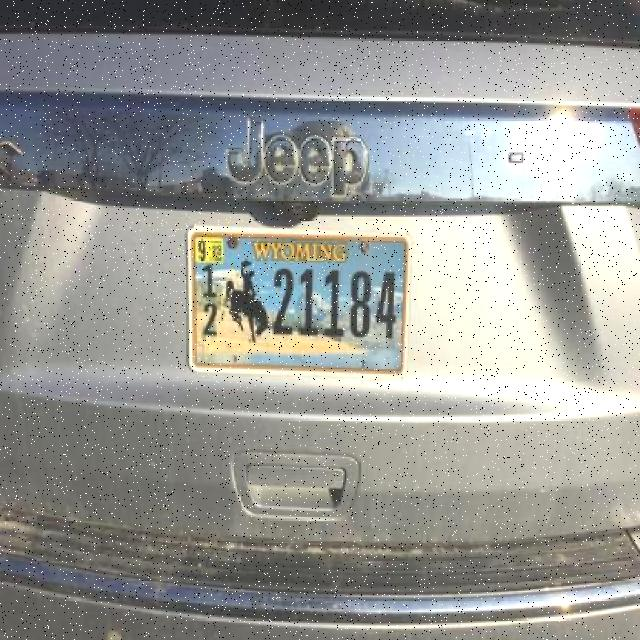licenseplate: (185, 227, 414, 380)
